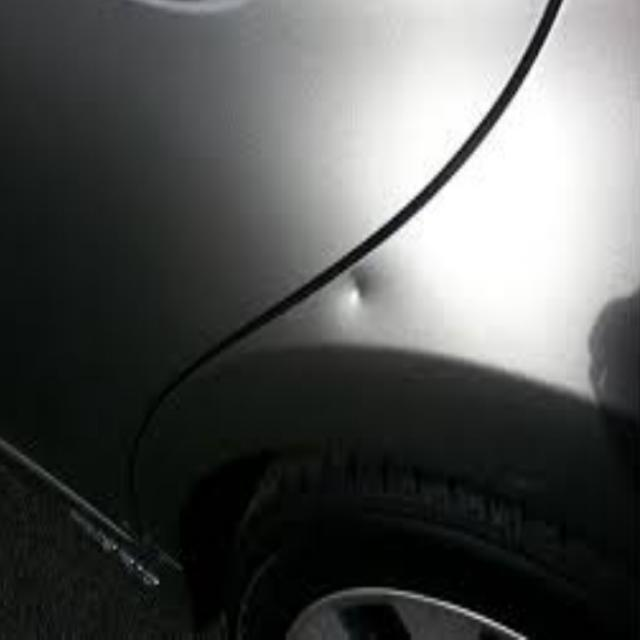dents: (317, 250, 415, 324)
